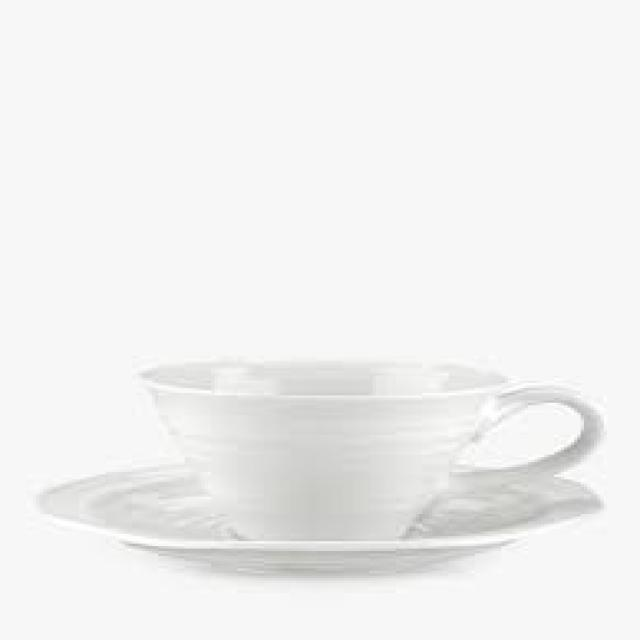taza: (115, 334, 606, 546)
